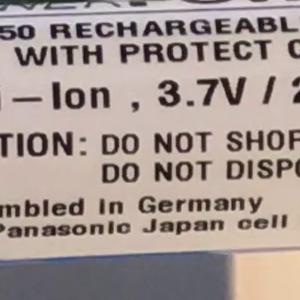3.7V: (148, 67, 251, 117)
